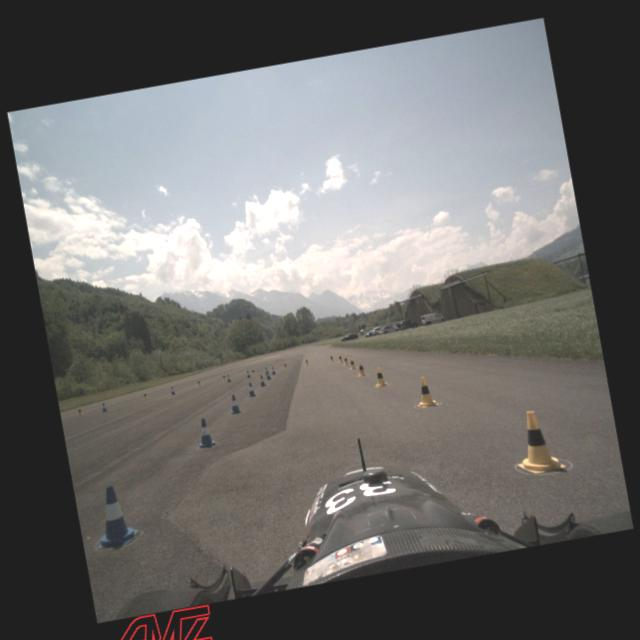blue_cone: (86, 480, 140, 550), (192, 416, 218, 450), (227, 392, 241, 414), (246, 381, 256, 397), (258, 375, 266, 387), (100, 402, 108, 413), (270, 366, 276, 376), (170, 386, 176, 396), (265, 371, 271, 380), (245, 369, 251, 378), (263, 366, 269, 374), (226, 374, 230, 383)
yellow_cone: (508, 404, 566, 478), (412, 374, 438, 409), (372, 365, 388, 388), (355, 360, 367, 378), (348, 357, 356, 370), (76, 406, 83, 416), (142, 390, 149, 400), (342, 356, 348, 366), (337, 354, 343, 363), (328, 353, 334, 362), (304, 358, 310, 366), (282, 361, 288, 369), (250, 368, 256, 376), (196, 379, 201, 386), (222, 373, 226, 381)
